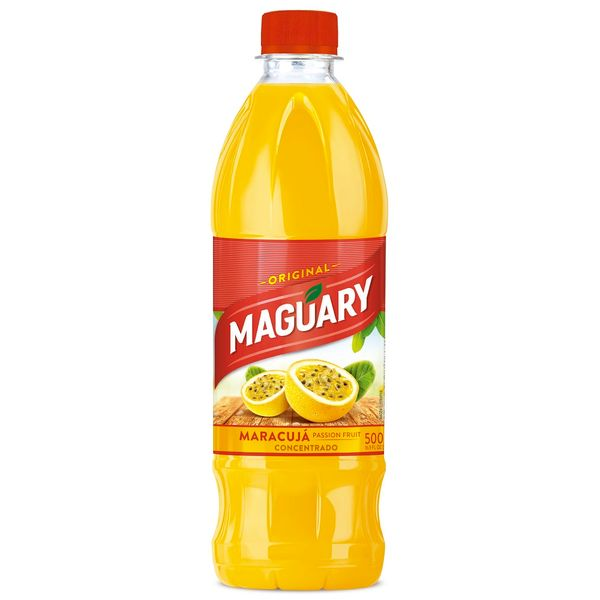maguary: (199, 5, 395, 600)
